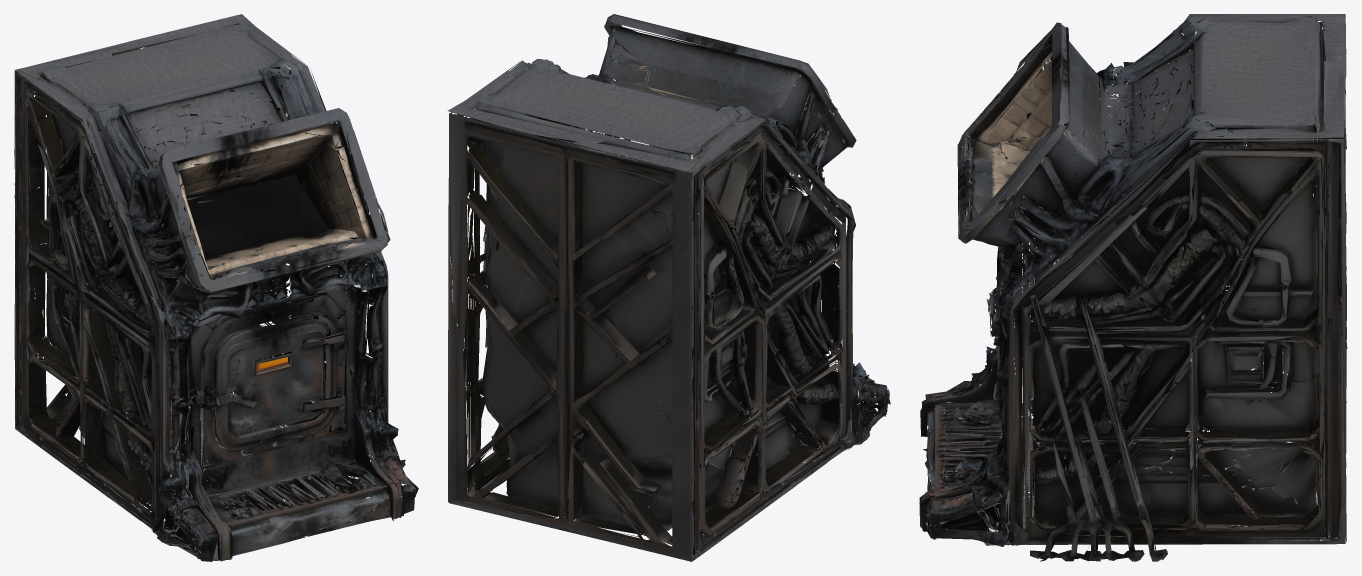
File: corp_incinerator_hopper.glb
The picture shows the model from 3 angles, left to right: view 1: azimuth 30°, elevation 25°; view 2: azimuth 150°, elevation 25°; view 3: azimuth 270°, elevation 25°; orthographic projection. The views are drawn at different scales.
Visible parts, largest first — view 1: node_0; view 2: node_0; view 3: node_0.
Part boxes in pixels (x1,y1,x2,y2): node_0: (14, 14, 418, 561); node_0: (448, 14, 890, 561); node_0: (919, 14, 1347, 561).
Bounding box in the file's own units: 0.5984 × 0.7931 × 0.7368.
1 material, 1 textured.
